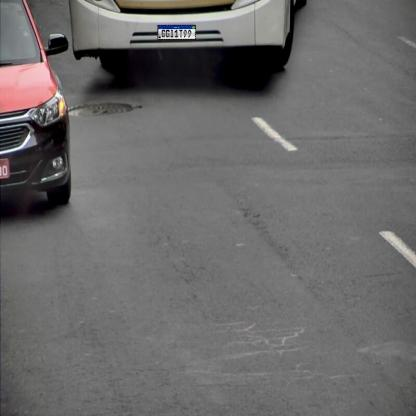PlacaM: (158, 25, 196, 39)
